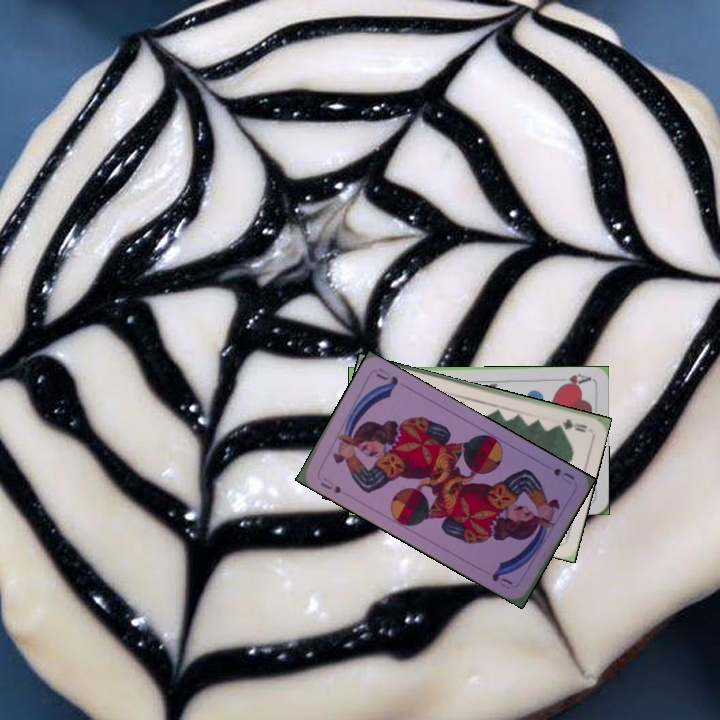G9: (553, 415, 589, 435)
HA: (552, 369, 592, 389)
SU: (549, 464, 577, 487), (316, 473, 344, 496)
